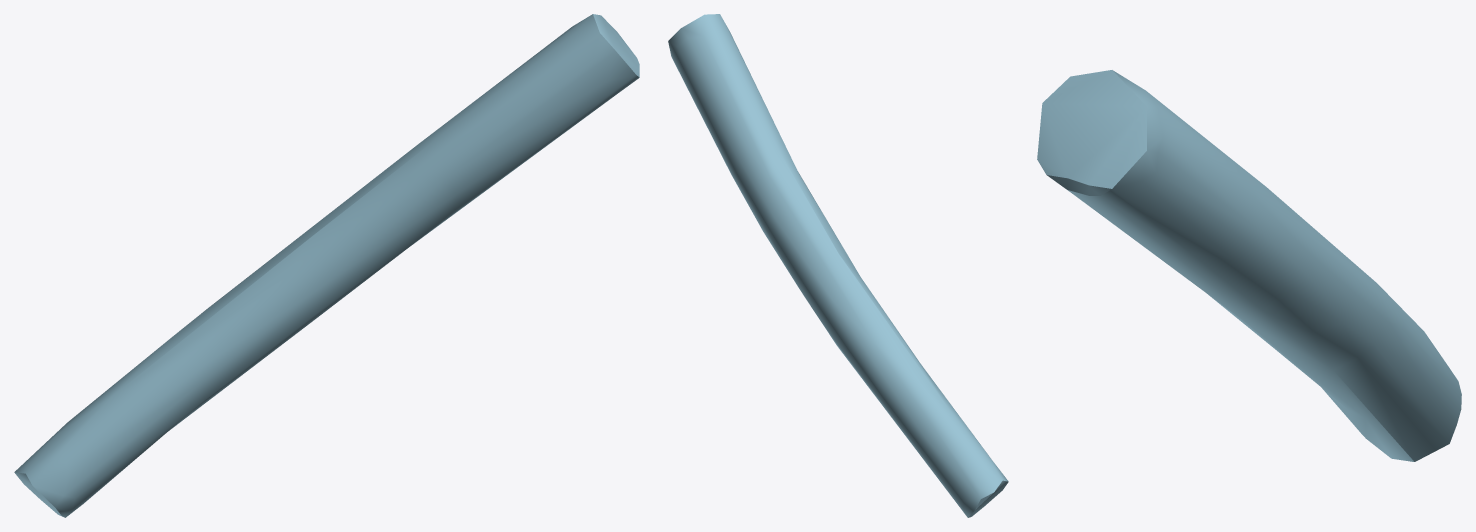
The model's file is portal_tributaries.glb.
The picture shows the model from 3 angles, left to right: view 1: azimuth 30°, elevation 25°; view 2: azimuth 150°, elevation 25°; view 3: azimuth 270°, elevation 25°; orthographic projection. The views are drawn at different scales.
Visible parts, largest first — view 1: FJ3438_Ileal_vein; view 2: FJ3438_Ileal_vein; view 3: FJ3438_Ileal_vein.
Boxes of the visible parts, x1,y1,x2,y2 form: FJ3438_Ileal_vein: (14, 14, 639, 517); FJ3438_Ileal_vein: (668, 14, 1008, 517); FJ3438_Ileal_vein: (1037, 70, 1461, 461).
Size of the model in its own units: 0.0242 by 0.0207 by 0.0109.
